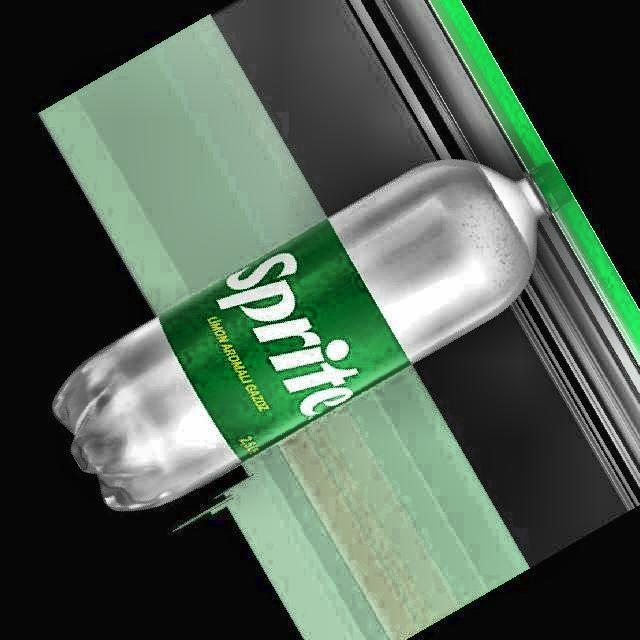plastic: (54, 160, 578, 509)
